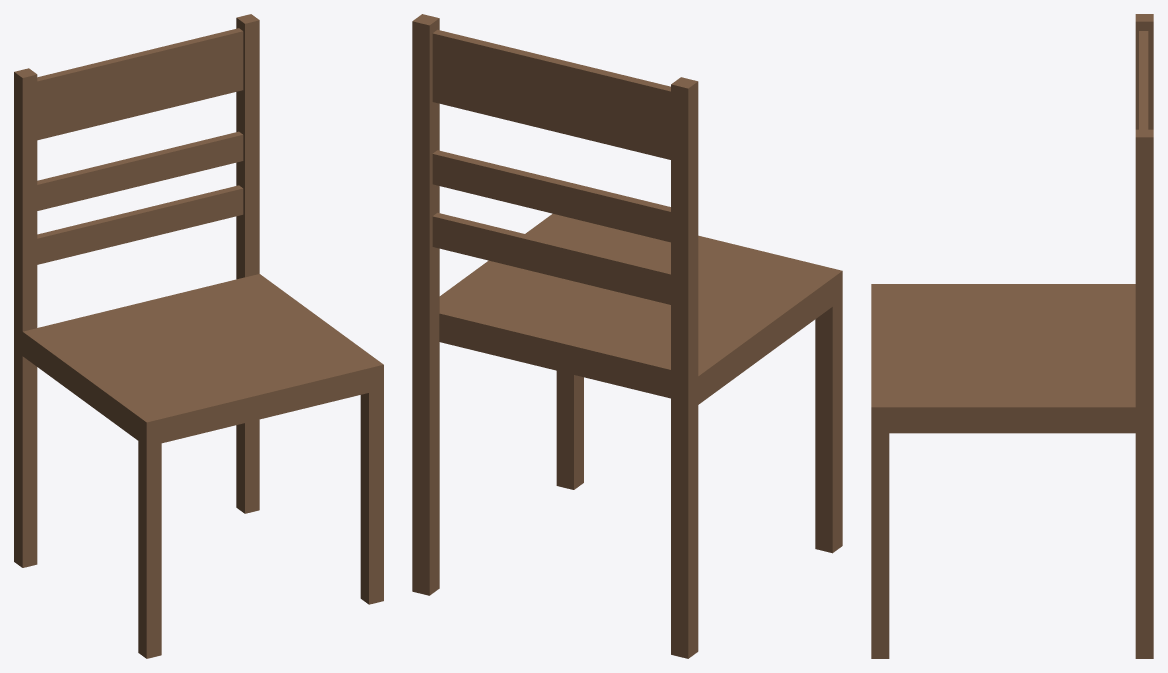
Rendered from Chair 1.fbx.
3 renders of one model, left to right at view 1: azimuth 30°, elevation 25°; view 2: azimuth 150°, elevation 25°; view 3: azimuth 270°, elevation 25°, orthographic. The views are drawn at different scales.
Visible parts, largest first — view 1: Chair; view 2: Chair; view 3: Chair.
Boxes of the visible parts, x1,y1,x2,y2 form: Chair: (14, 14, 383, 658); Chair: (412, 14, 842, 658); Chair: (871, 14, 1153, 658).
Size of the model in its own units: 51.07 by 101 by 49.48.
